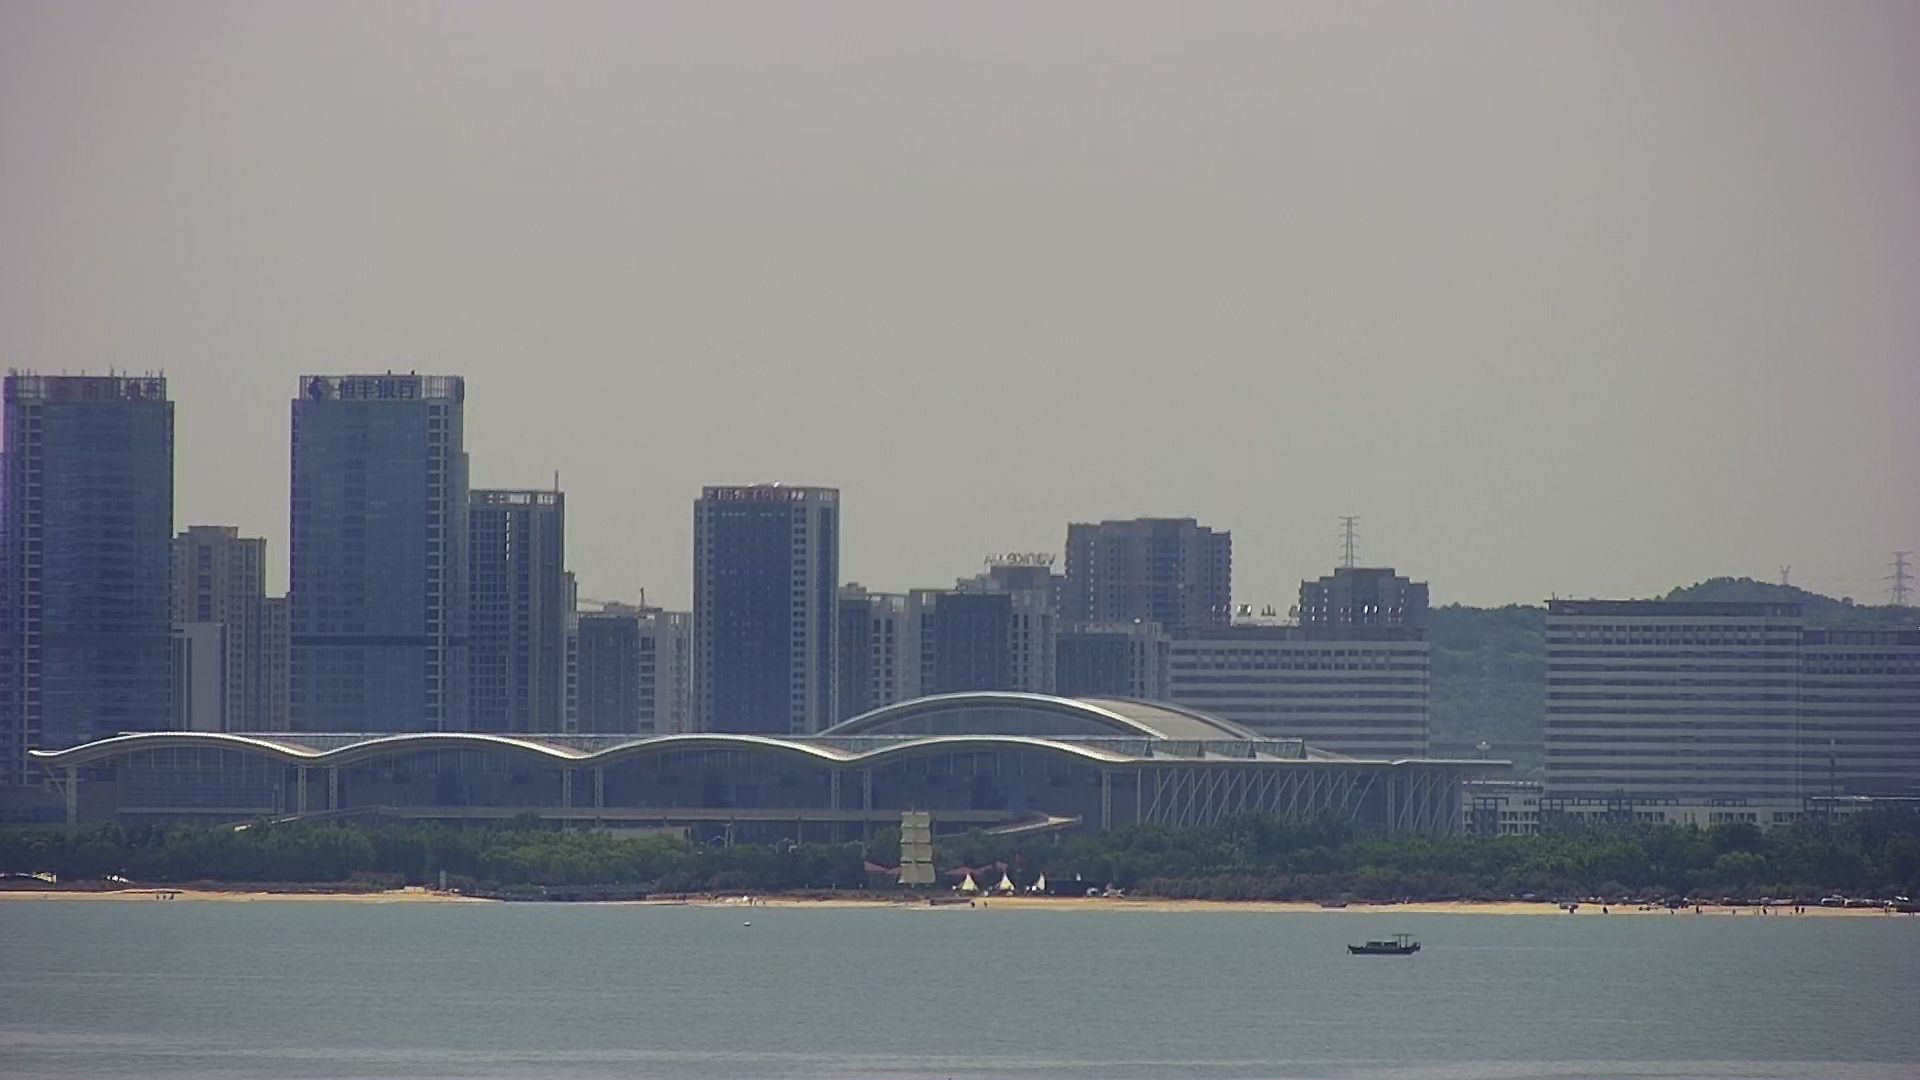boat: (1341, 920, 1429, 964)
